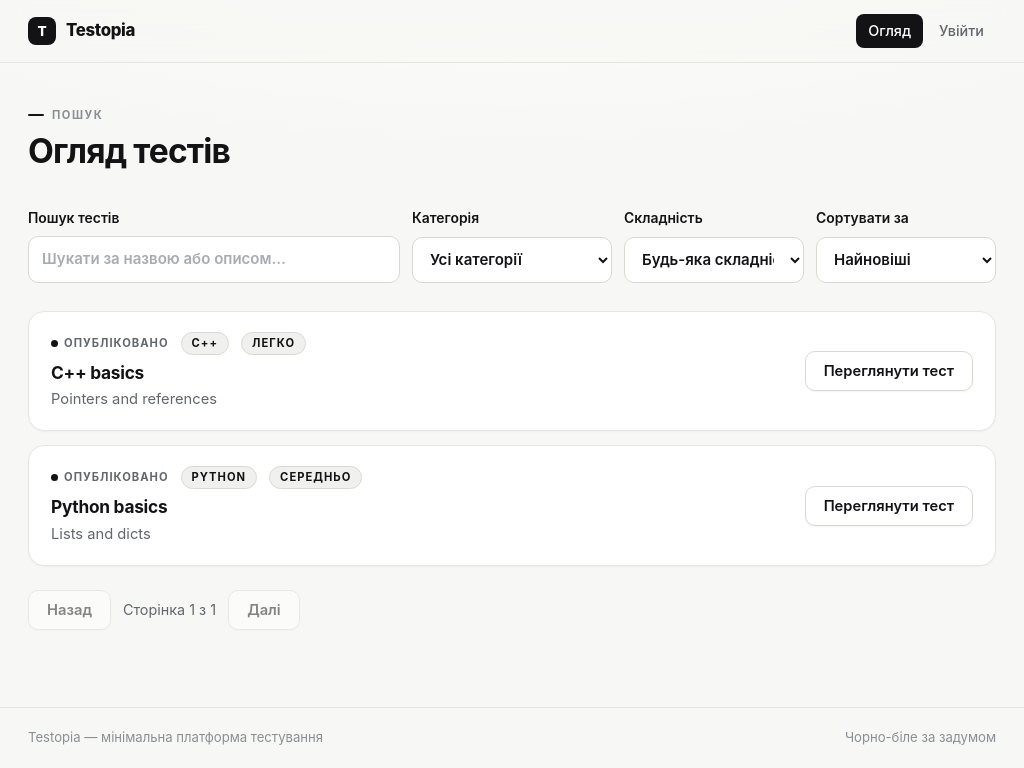
Test case: browse search and filters › clears filters from the empty state
Check: the heading "C++ basics" is shown, box [51,362,144,383]
Type "no-such-test" into the search field labelled "Пошук тестів". click: (214, 260)
box: [28,236,400,283]
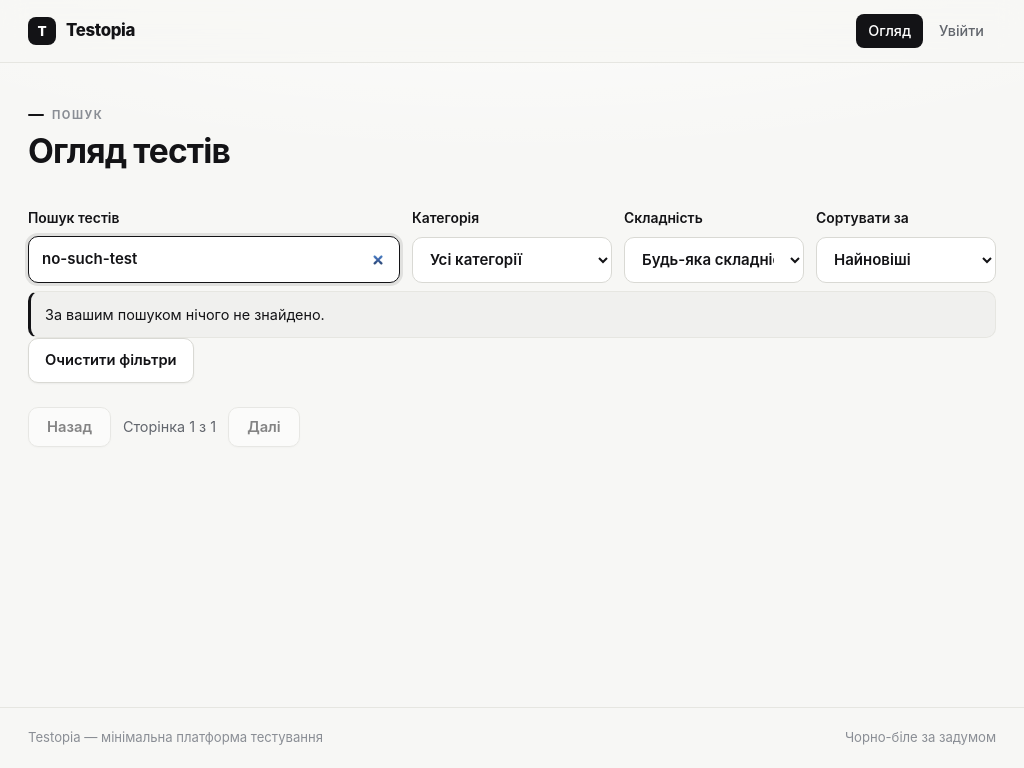
Check: the text "За вашим пошуком нічого не знайдено." is shown, box [28,291,996,338]
Click the button "Очистити фільтри". click: (111, 361)
box: [28,338,194,383]
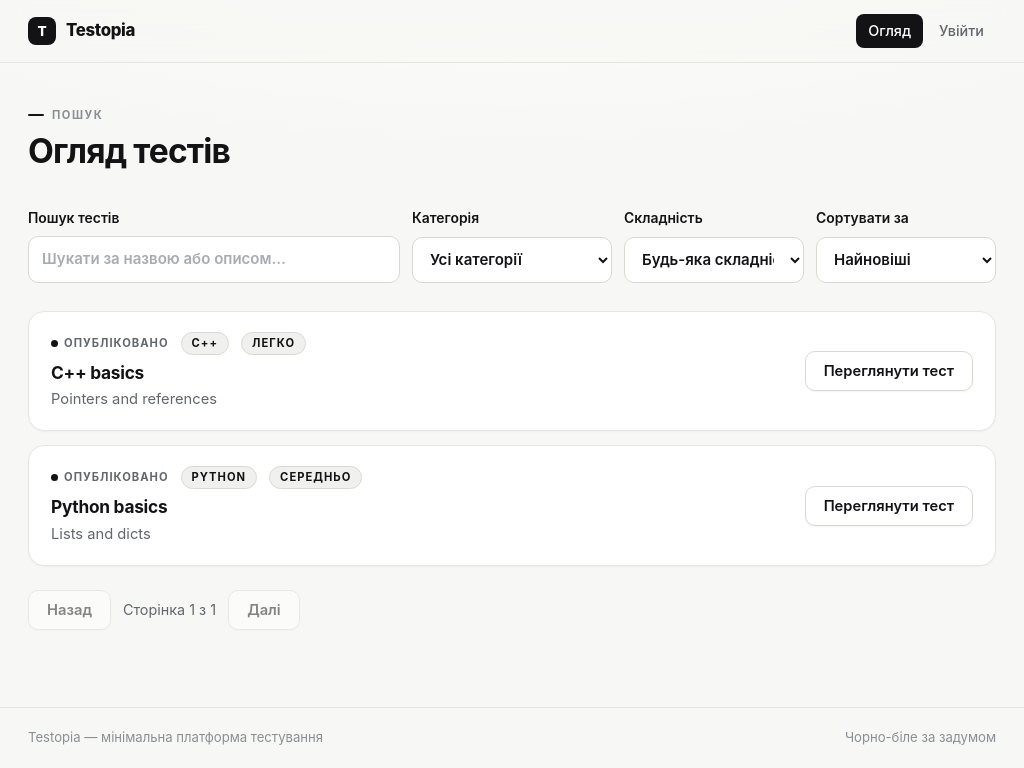
Check: the heading "C++ basics" is shown, box [51,362,144,383]
Check: the heading "Python basics" is shown, box [51,496,167,517]
